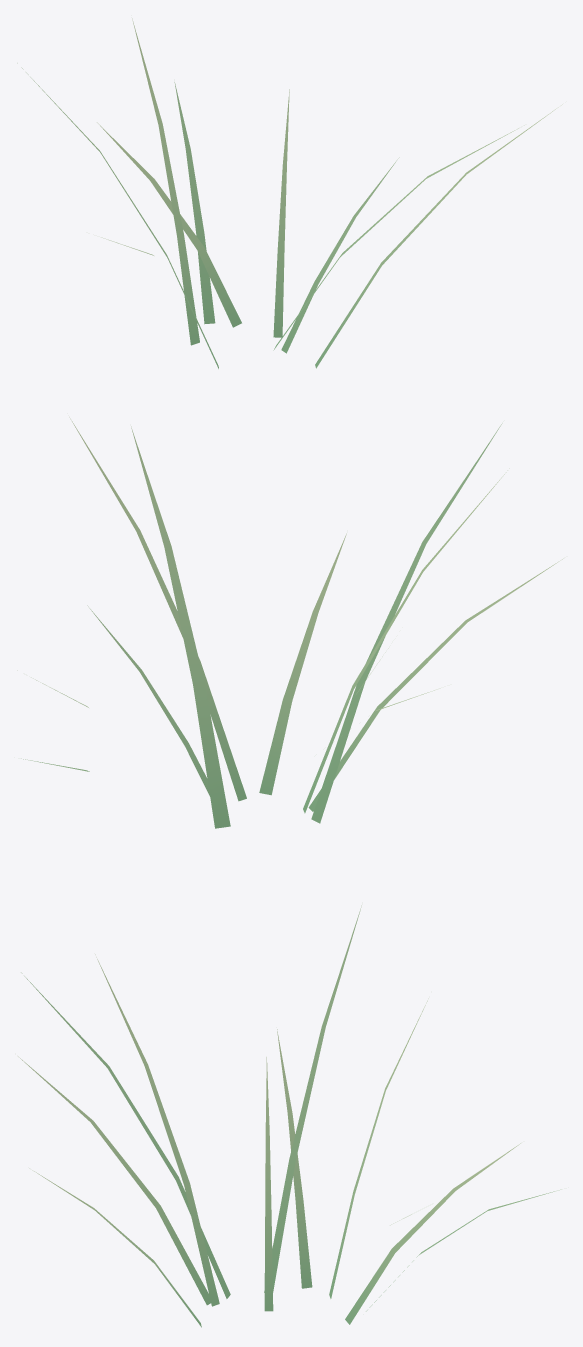
The model's file is grass_tall_b.glb.
3 views of the same model, one above another, from view 1: azimuth 30°, elevation 25°; view 2: azimuth 150°, elevation 25°; view 3: azimuth 270°, elevation 25° (orthographic). The views are drawn at different scales.
Visible parts, largest first — view 1: soft; view 2: soft; view 3: soft.
Part boxes in pixels (bbox=[...]): soft: bbox=[17, 18, 562, 368]; soft: bbox=[17, 417, 563, 828]; soft: bbox=[18, 905, 561, 1327].
Size of the model in its own units: 0.8314 by 0.5705 by 0.9064.
